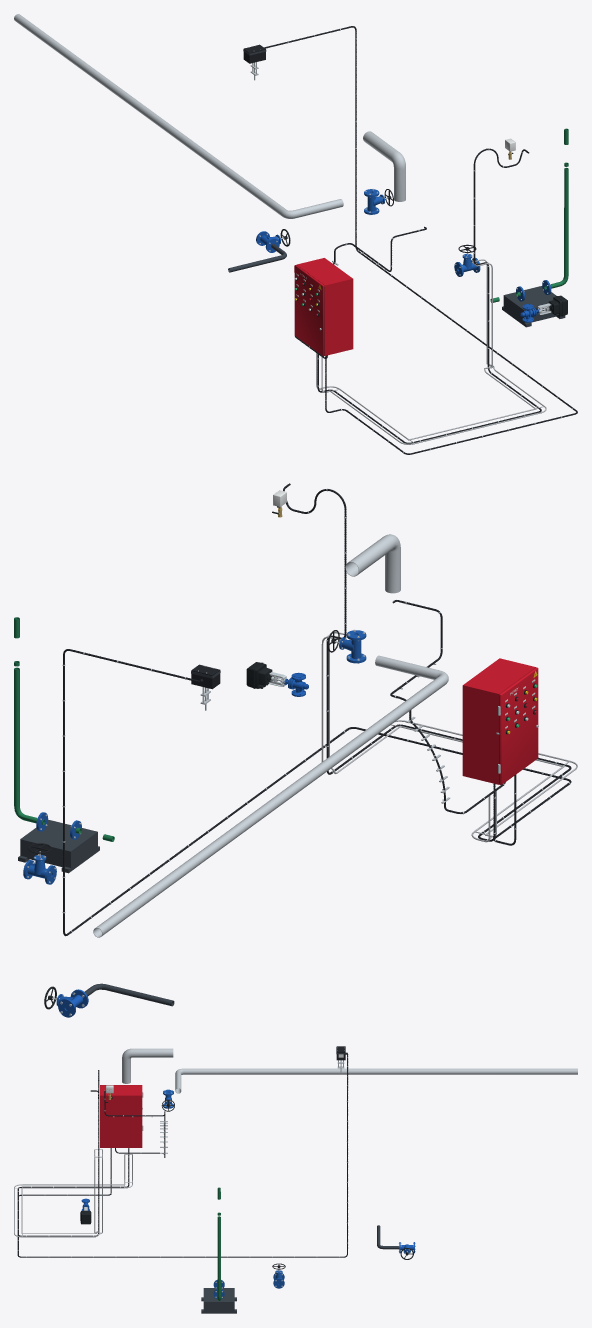
Rendered from s4000-3-ChzAbEiS.glb.
3 views of the same model, one above another, from view 1: azimuth 30°, elevation 25°; view 2: azimuth 150°, elevation 25°; view 3: azimuth 270°, elevation 25° (orthographic). The views are drawn at different scales.
Parts seen in each view (by area): view 1: safety_vent_1 / steel, control_cabinet / control_cabinet_0.npz, cabinet_door / cabinet_door_5.npz, mod_eco_drive_cable / black, cables / zinc, wiring_pressure_switch_2 / black, pump_branch_1 / dark, steam_rise / steel, pump_branch_1 / green, bcv925 / bcv925_0.npz; view 2: safety_vent_1 / steel, control_cabinet / control_cabinet_0.npz, cabinet_door / cabinet_door_5.npz, mod_eco_drive_cable / black, pump_branch_1 / dark, cables / zinc, wiring_pressure_switch_2 / black, steam_rise / steel, pump_branch_1 / green, bcv925 / bcv925_0.npz, wiring_low_level_2 / black, drain_isolation_2 / drain_isolation_2_0.npz; view 3: safety_vent_1 / steel, control_cabinet / control_cabinet_0.npz, cables / zinc, mod_eco_drive_cable / black, wiring_pressure_switch_2 / black, pump_branch_1 / dark, steam_rise / steel, pump_branch_1 / green.
Boxes of the visible parts, x1,y1,x2,y2 form: safety_vent_1 / steel: (14,14,343,218); control_cabinet / control_cabinet_0.npz: (296,258,353,355); cabinet_door / cabinet_door_5.npz: (294,265,324,356); mod_eco_drive_cable / black: (264,26,577,454); cables / zinc: (316,259,546,444); wiring_pressure_switch_2 / black: (317,148,541,443); pump_branch_1 / dark: (502,286,565,327); steam_rise / steel: (363,131,405,201); pump_branch_1 / green: (490,128,568,302); bcv925 / bcv925_0.npz: (520,295,567,322); safety_vent_1 / steel: (93,655,448,937); control_cabinet / control_cabinet_0.npz: (462,658,535,784); cabinet_door / cabinet_door_5.npz: (498,667,538,785); mod_eco_drive_cable / black: (63,649,571,936); pump_branch_1 / dark: (18,819,99,873); cables / zinc: (321,631,577,842); wiring_pressure_switch_2 / black: (283,483,571,841); steam_rise / steel: (345,534,400,593); pump_branch_1 / green: (14,617,114,841); bcv925 / bcv925_0.npz: (246,662,308,696); wiring_low_level_2 / black: (390,600,505,813); drain_isolation_2 / drain_isolation_2_0.npz: (44,986,88,1017); safety_vent_1 / steel: (175,1068,577,1093); control_cabinet / control_cabinet_0.npz: (100,1085,143,1147); cables / zinc: (14,1149,132,1237); mod_eco_drive_cable / black: (17,1053,348,1257); wiring_pressure_switch_2 / black: (17,1070,129,1236); pump_branch_1 / dark: (201,1288,236,1313); steam_rise / steel: (122,1048,173,1083); pump_branch_1 / green: (217,1187,220,1300).
Size of the model in its own units: 3.51 by 2.62 by 7.07.
